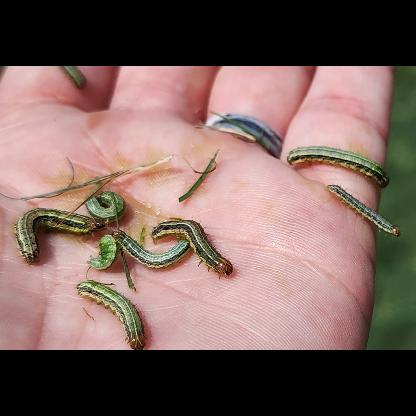Fall Armyworm Larvae: (10, 206, 110, 268), (150, 214, 238, 284), (72, 276, 150, 350), (284, 142, 392, 192), (322, 180, 404, 242), (110, 227, 194, 273), (83, 187, 131, 227), (86, 233, 124, 273), (55, 66, 90, 92)
